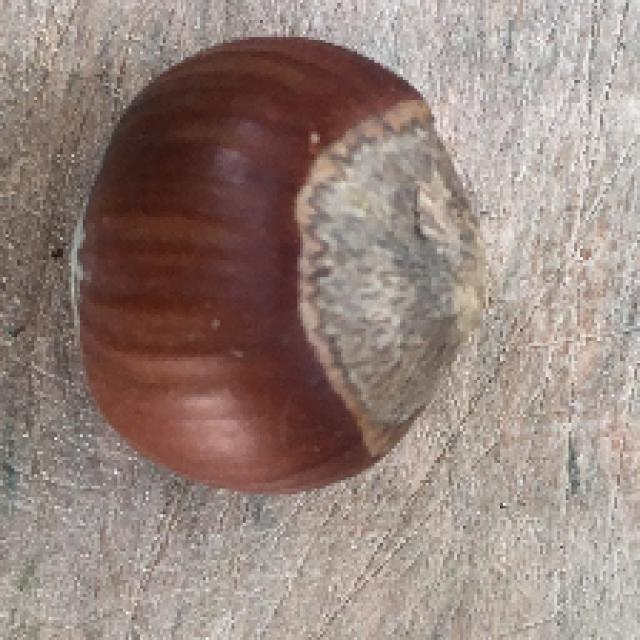damagedHazelnut: (78, 39, 486, 489)
